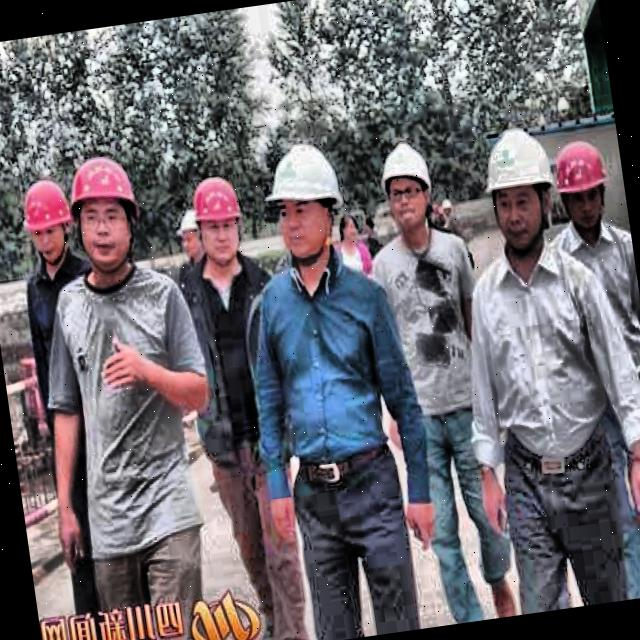helmet: (469, 112, 572, 270), (249, 129, 353, 273), (52, 138, 153, 285), (175, 162, 258, 280), (540, 123, 619, 240), (12, 165, 83, 278), (372, 133, 442, 244)
